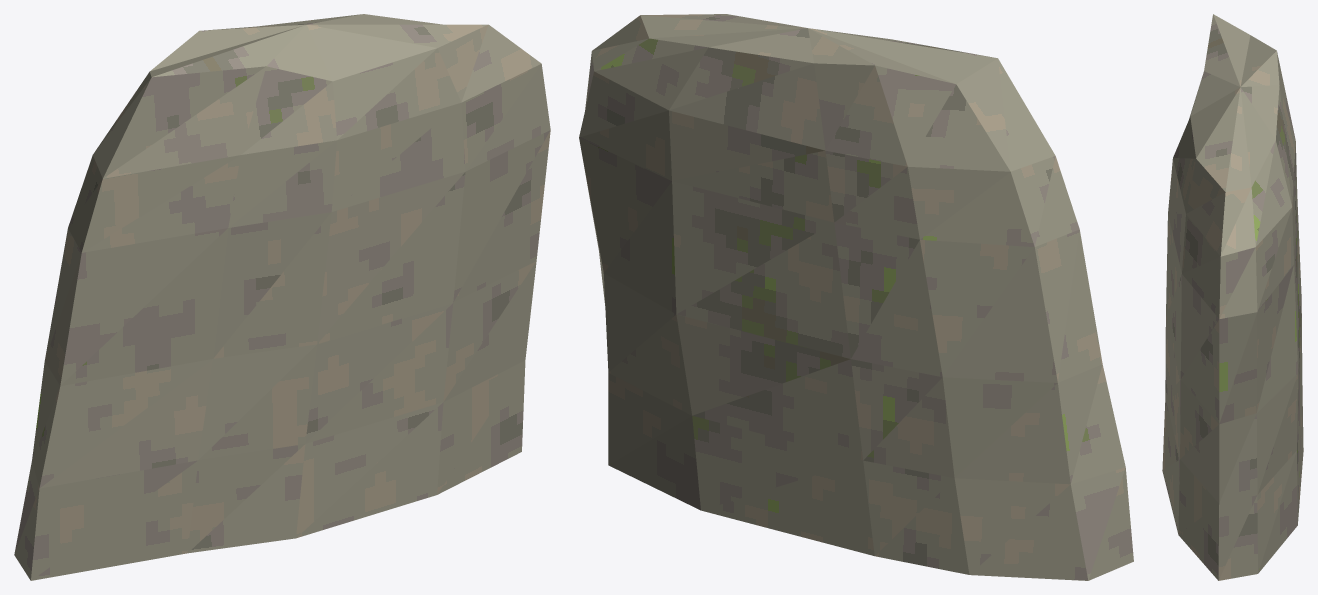
Rendered from forest_rock_slab.glb.
3 renders of one model, left to right at view 1: azimuth 30°, elevation 25°; view 2: azimuth 150°, elevation 25°; view 3: azimuth 270°, elevation 25°, orthographic. The views are drawn at different scales.
Parts seen in each view (by area): view 1: ForestRock; view 2: ForestRock; view 3: ForestRock.
Boxes of the visible parts, x1=… form: ForestRock: x1=14, y1=14, x2=550, y2=580; ForestRock: x1=579, y1=14, x2=1133, y2=580; ForestRock: x1=1162, y1=14, x2=1303, y2=580.
Size of what is drawn, in the model's own units: 2.49 by 2.11 by 0.6599.
Materials: 1 (1 with a texture image).
